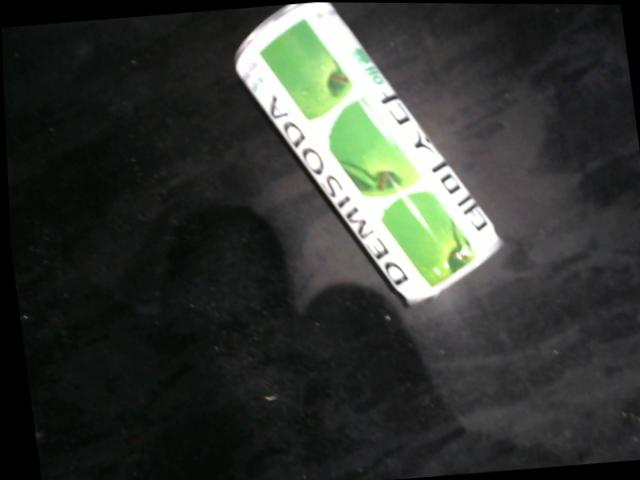can: (230, 2, 504, 308)
